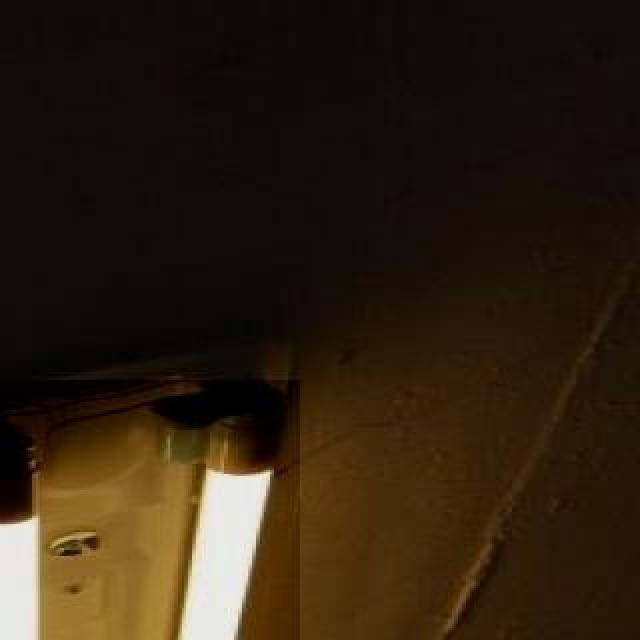fluorescent tube: (96, 380, 296, 640), (0, 402, 64, 640)
